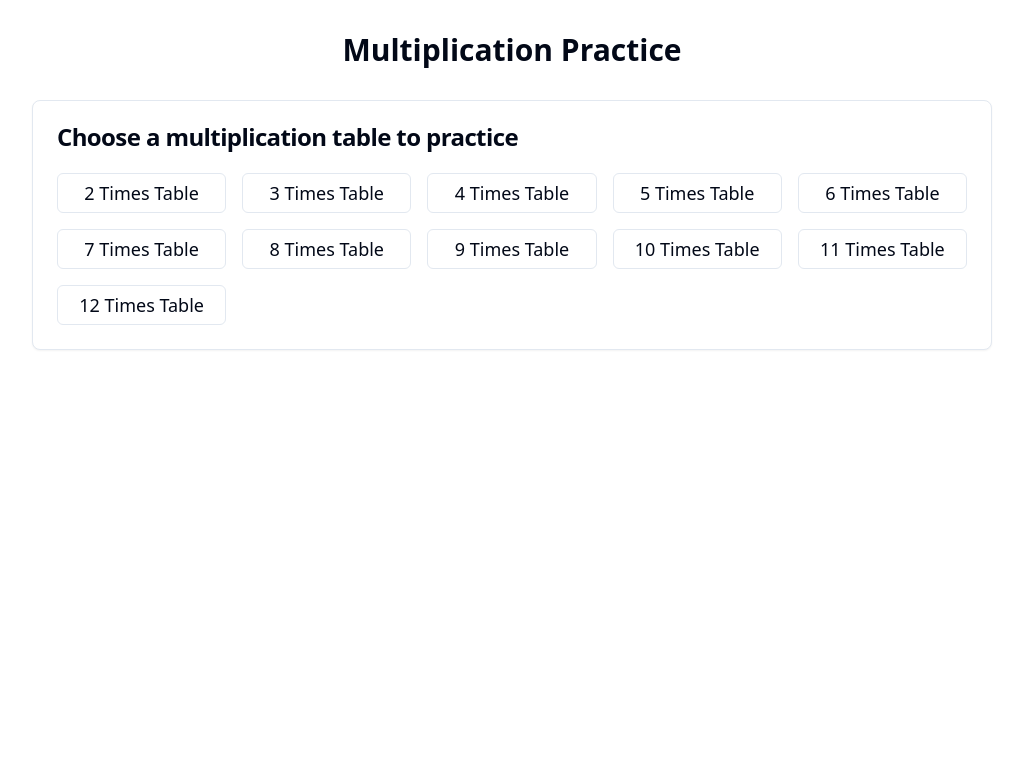
Test: MultiplicationGame › Edge Cases › maintains correct game state when switching tables
# Start with 2 times table
Click the button "2 Times Table": point(142, 193) x1=57 y1=173 x2=226 y2=213
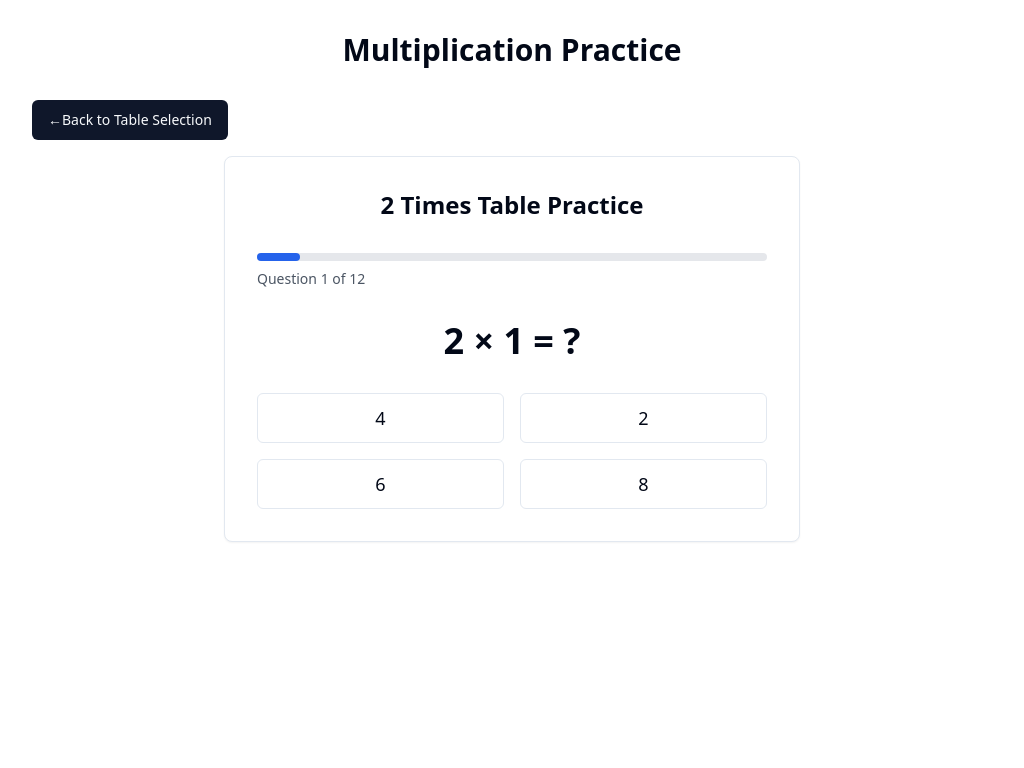
# Answer first question
Click the button "2": point(644, 418) x1=520 y1=393 x2=767 y2=443
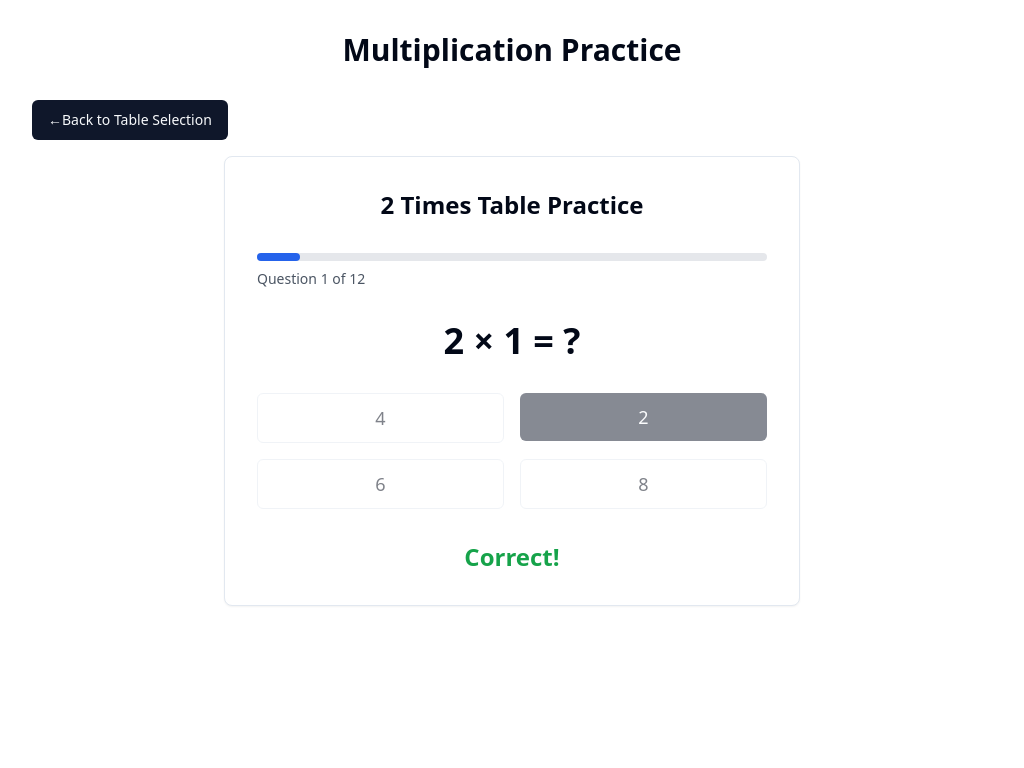
# Go back and select different table
Click the button "← Back to Table Selection": point(130, 120) x1=32 y1=100 x2=228 y2=140
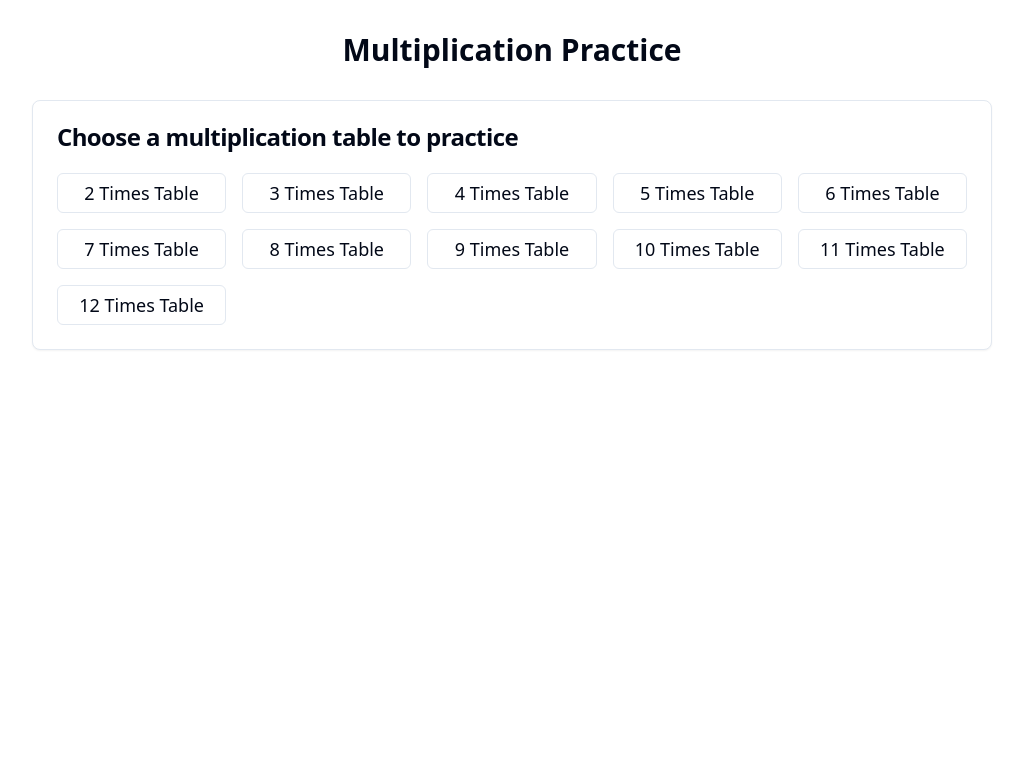
Click the button "3 Times Table": point(327, 193) x1=242 y1=173 x2=411 y2=213
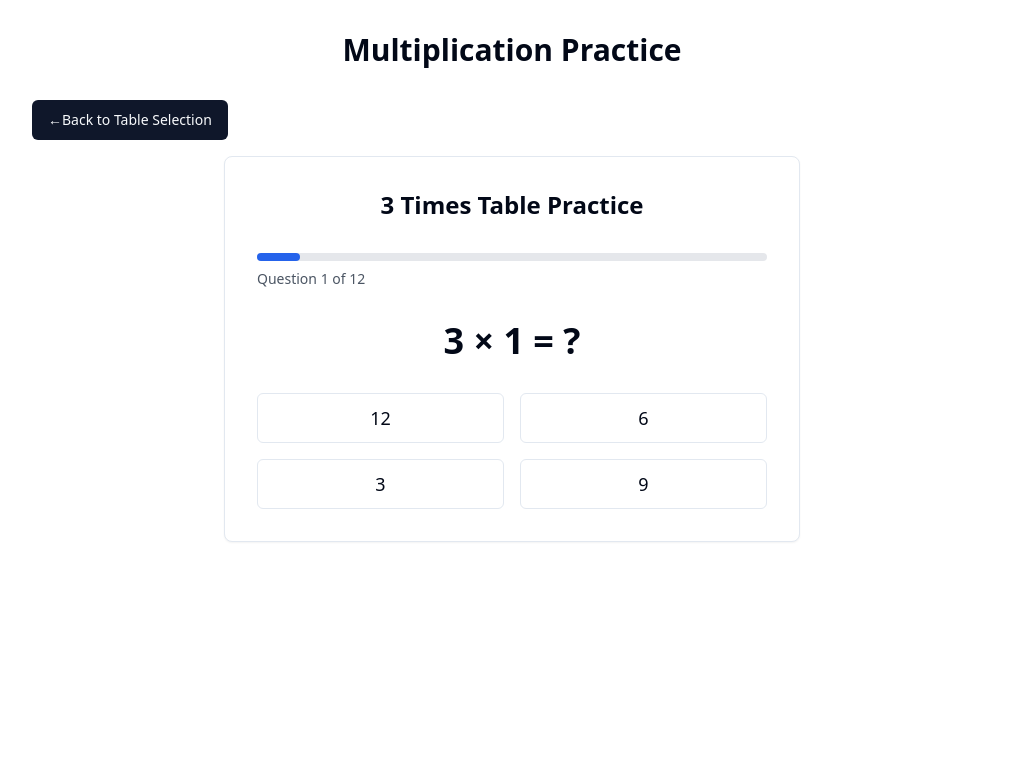
Now the text "Question 1 of 12" is shown, box x1=257 y1=269 x2=365 y2=289
